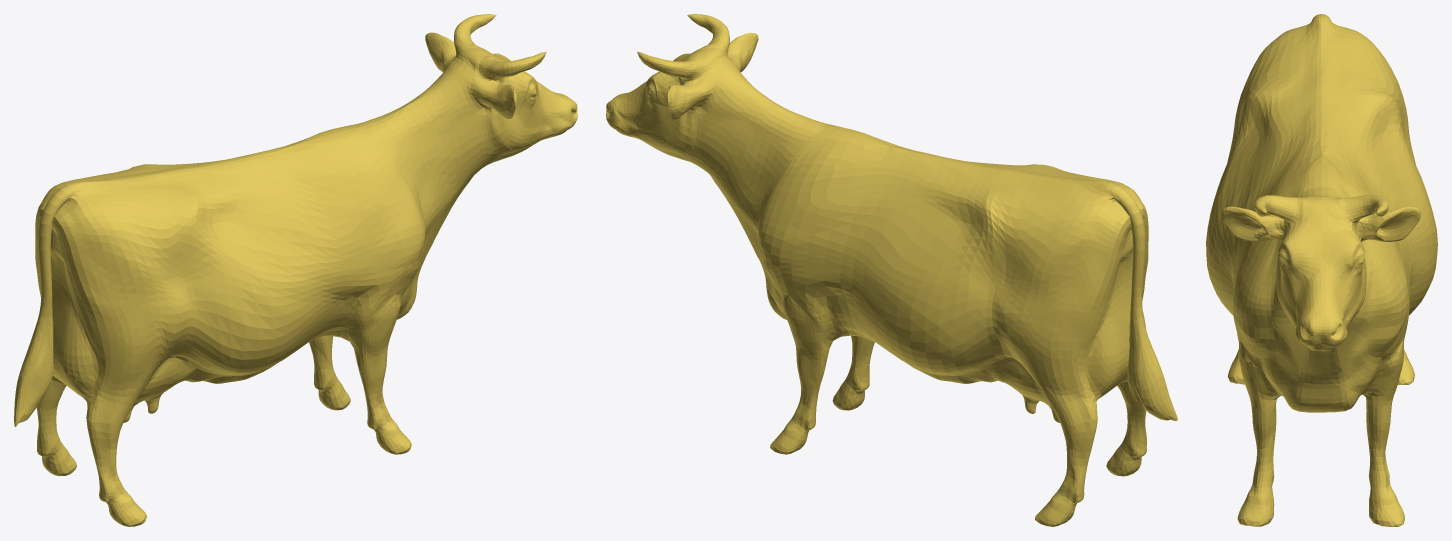
File: vaca.obj
The picture shows the model from 3 angles, left to right: view 1: azimuth 30°, elevation 25°; view 2: azimuth 150°, elevation 25°; view 3: azimuth 270°, elevation 25°; orthographic projection. The views are drawn at different scales.
Visible parts, largest first — view 1: vaca001; view 2: vaca001; view 3: vaca001.
Boxes of the visible parts, x1,y1,x2,y2 form: vaca001: (14, 14, 577, 526); vaca001: (606, 14, 1177, 526); vaca001: (1206, 14, 1437, 526).
Bounding box in the file's own units: 0.6 × 0.3682 × 0.1938.
